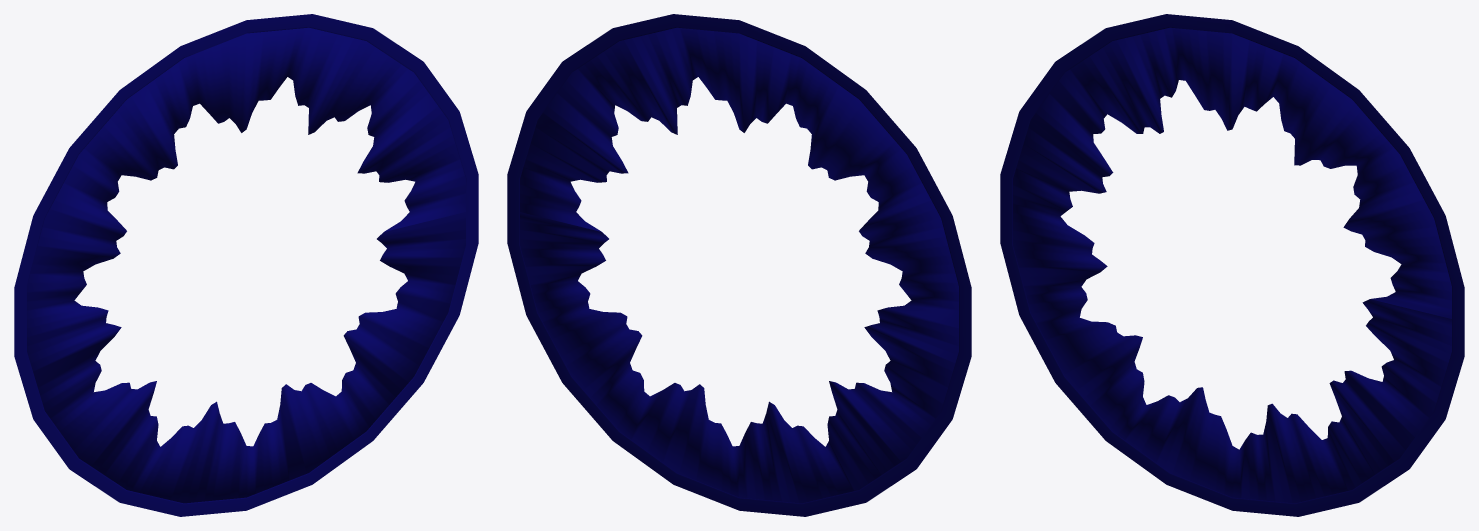
Rendered from blue_flag_spawn.fbx.
3 renders of one model, left to right at view 1: azimuth 30°, elevation 25°; view 2: azimuth 150°, elevation 25°; view 3: azimuth 330°, elevation 25°, orthographic.
Parts seen in each view (by area): view 1: RingWave01_None; view 2: RingWave01_None; view 3: RingWave01_None.
Part boxes in pixels (x1,y1,x2,y2): RingWave01_None: [14, 14, 478, 516]; RingWave01_None: [507, 14, 971, 516]; RingWave01_None: [1000, 14, 1464, 516].
Bounding box in the file's own units: 114 × 116 × 0.1121.
Materials: 1 (1 with a texture image).
